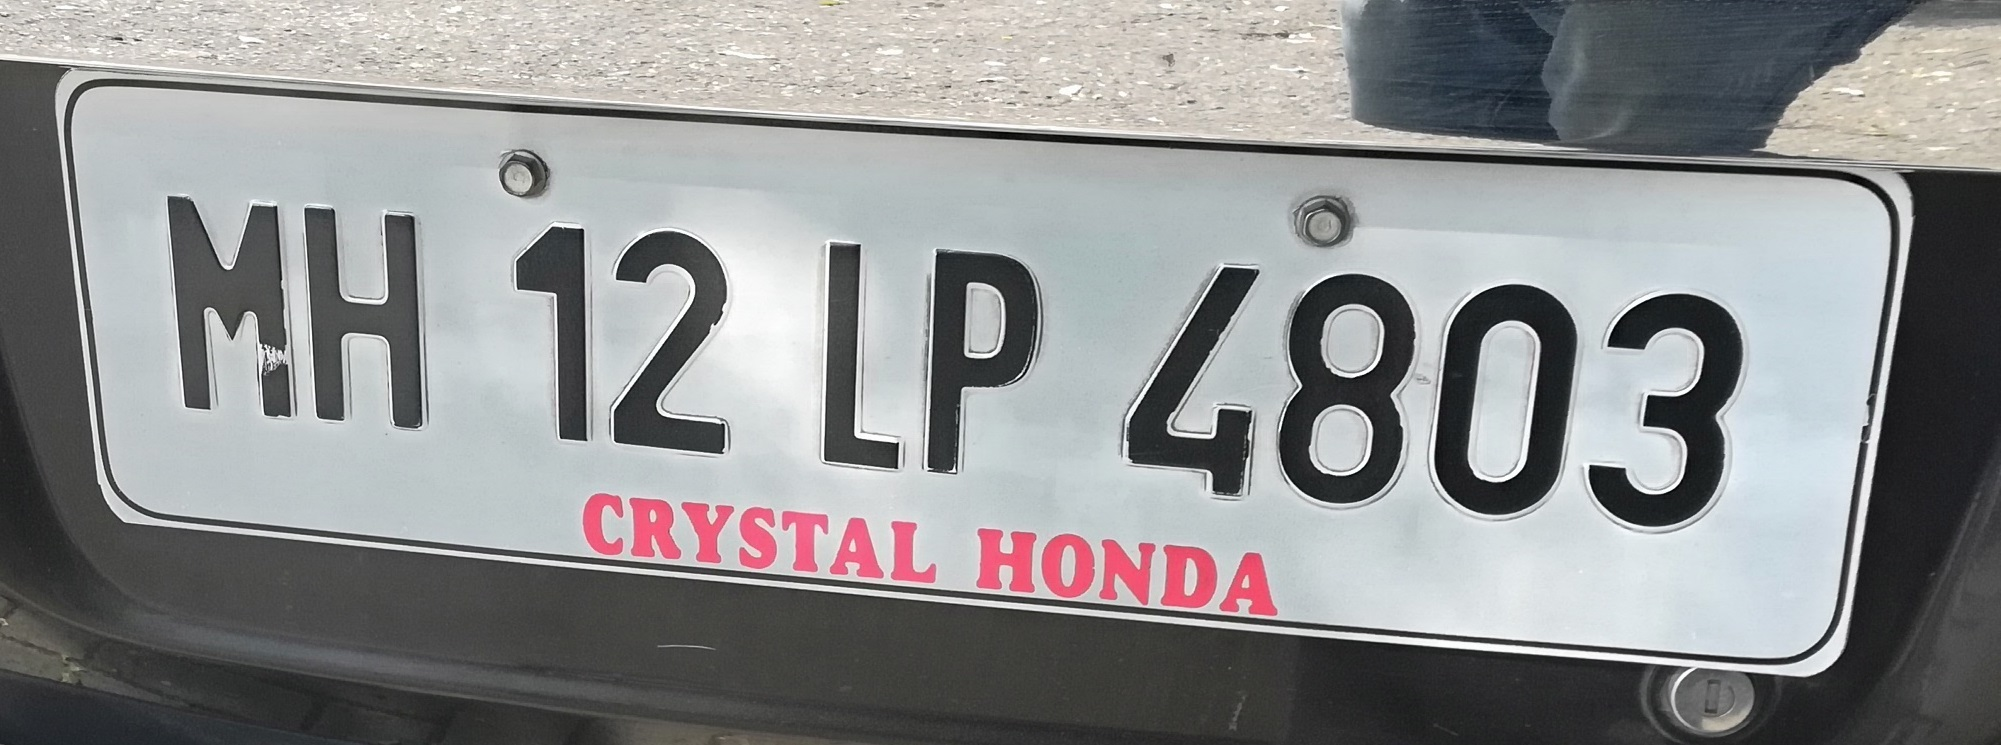numberplate: (48, 69, 1917, 675)
